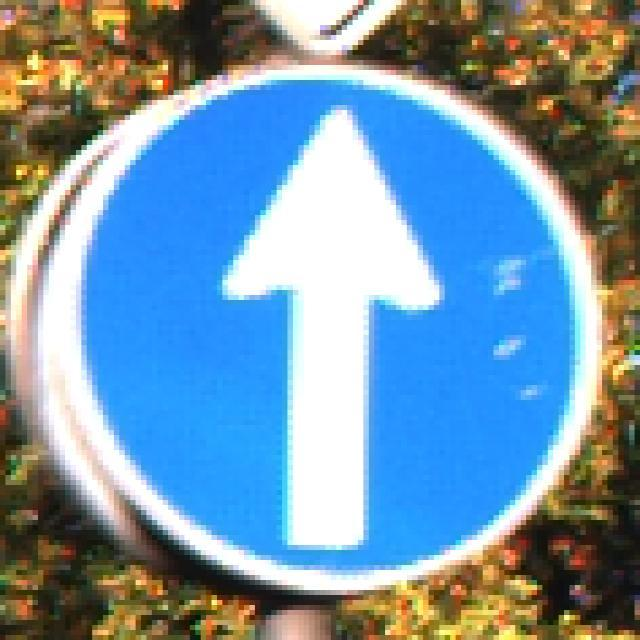compulsary ahead: (36, 72, 607, 595)
